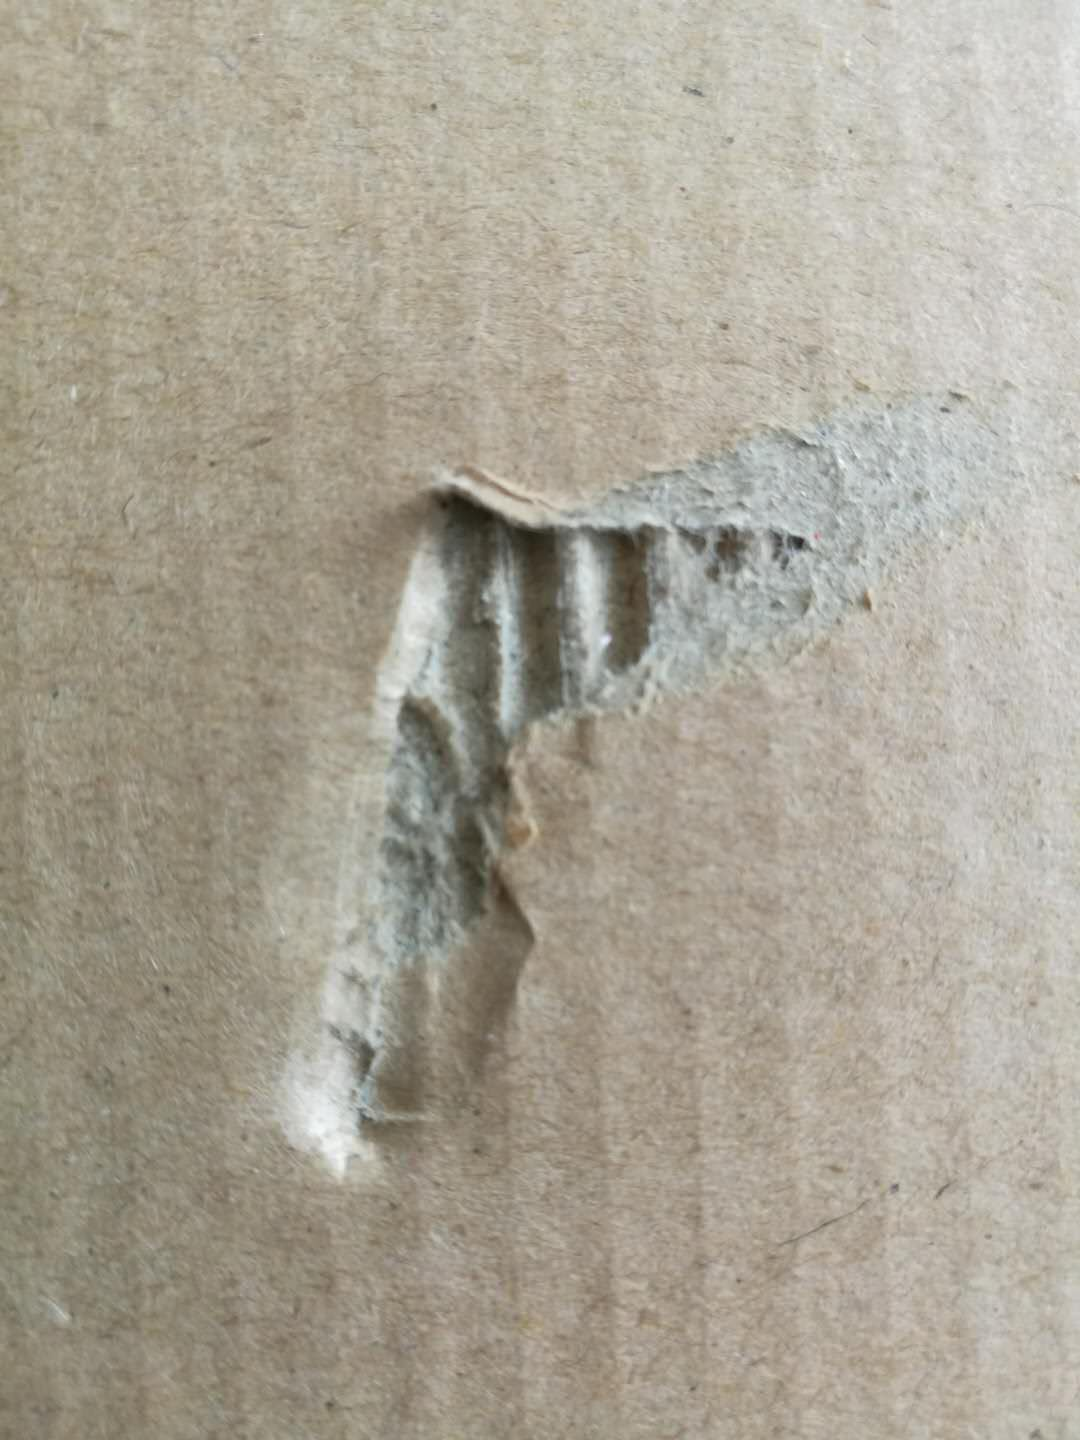defect: (206, 351, 1080, 1210)
